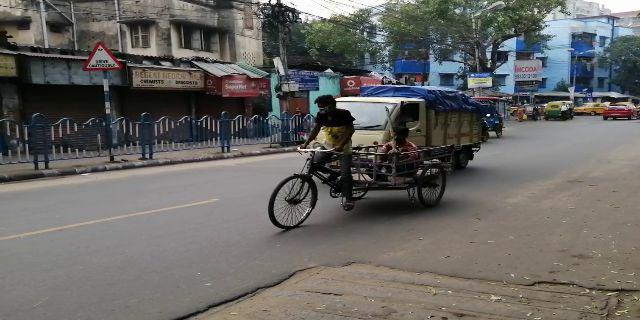Minitruck: (318, 79, 489, 176)
Rickshaw: (264, 128, 455, 235)
